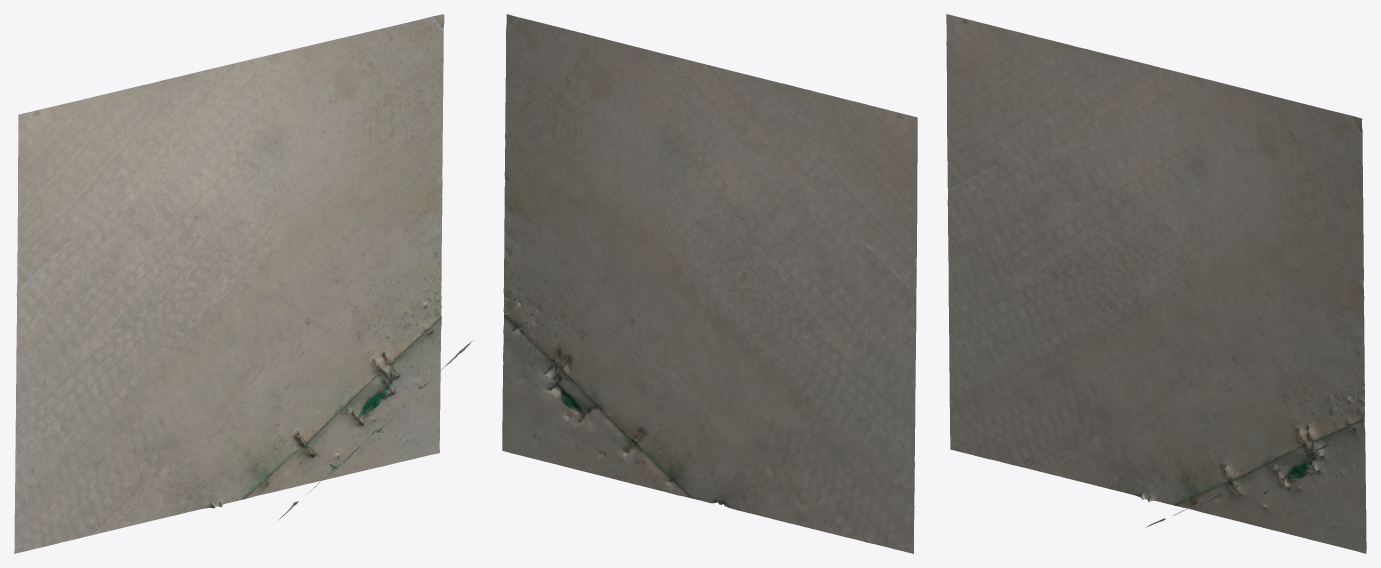
File: Tile_+022_+010.fbx
3 renders of one model, left to right at view 1: azimuth 30°, elevation 25°; view 2: azimuth 150°, elevation 25°; view 3: azimuth 330°, elevation 25°, orthographic.
Visible parts, largest first — view 1: DefaultName; view 2: DefaultName; view 3: DefaultName.
Part boxes in pixels (left/top/right/bottom): DefaultName: left=14, top=14, right=473, bottom=553; DefaultName: left=502, top=14, right=917, bottom=553; DefaultName: left=946, top=14, right=1366, bottom=553.
Size of the model in its own units: 22.54 by 22.54 by 3.4.
